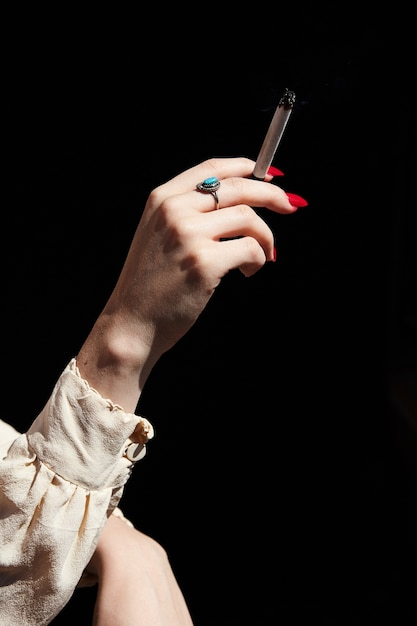cigarette: (252, 89, 296, 185)
